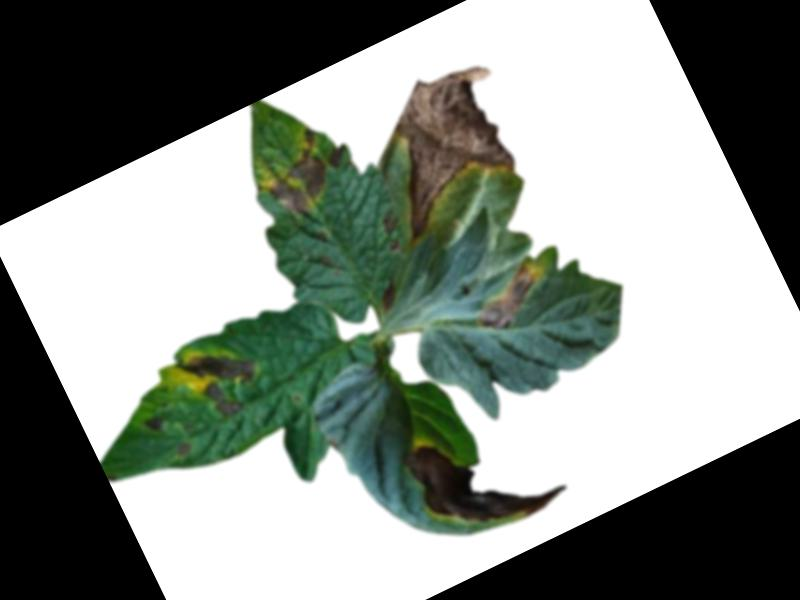Early_blight: (351, 51, 543, 246), (400, 396, 573, 557), (176, 331, 274, 430), (252, 126, 345, 224), (464, 252, 561, 338), (373, 204, 412, 255), (372, 277, 406, 314), (138, 409, 169, 441), (323, 141, 353, 173), (176, 441, 195, 458)
